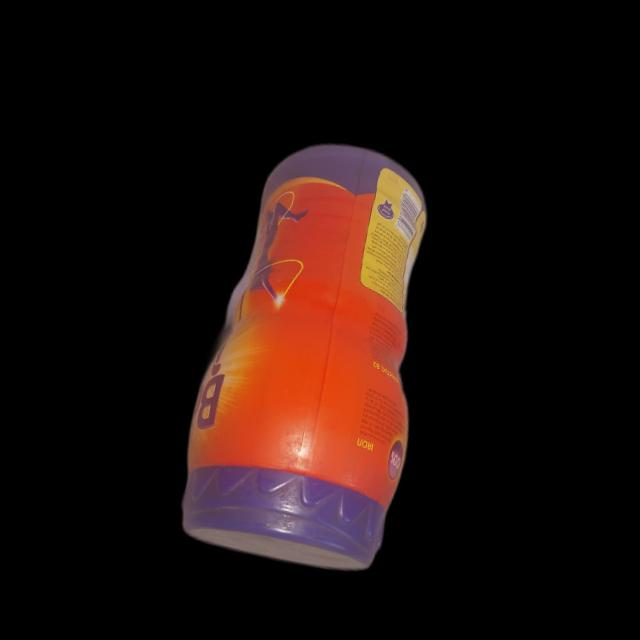Cadbury Bournvita Chocolate Health Drink-1kg-: (168, 124, 464, 586)
